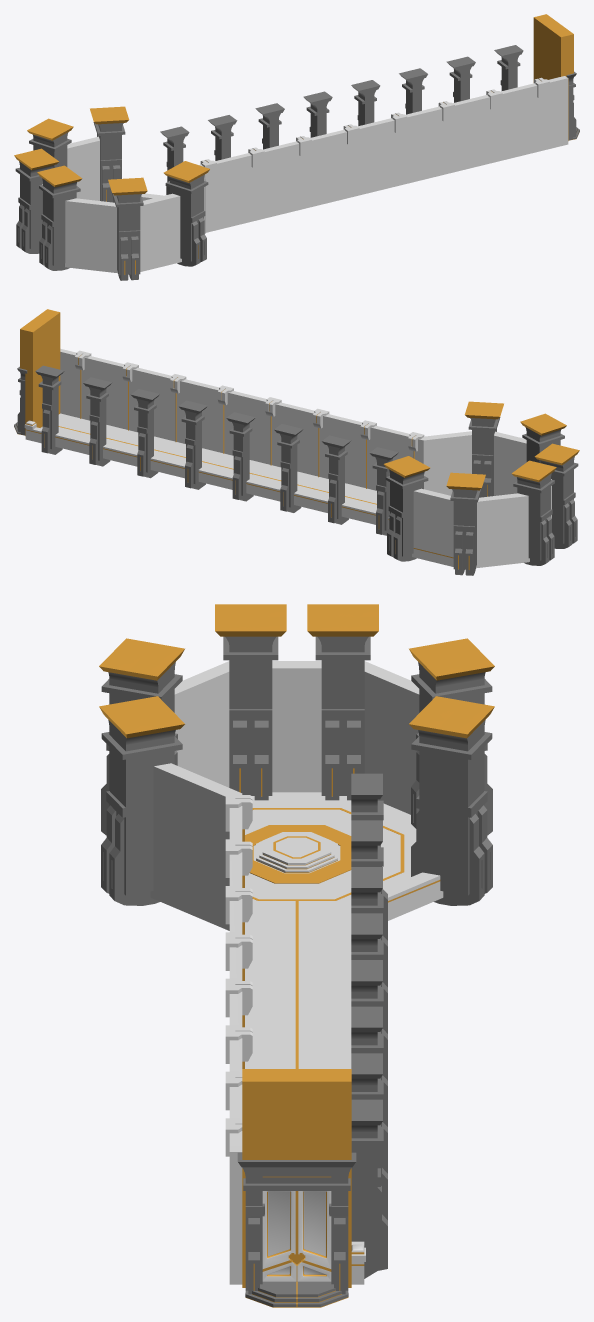
File: BOSSROOM.fbx
The picture shows the model from 3 angles, top to bottom: view 1: azimuth 30°, elevation 25°; view 2: azimuth 150°, elevation 25°; view 3: azimuth 270°, elevation 25°; orthographic projection. The views are drawn at different scales.
Visible parts, largest first — view 1: Cylinder.072, Cube.088, Cube.060, Cube.080, Cube.037, Cube.089; view 2: Cylinder.072, Cube.060, Cube.088, Cube.080, Cube.037, Cube.089; view 3: Cylinder.072, Cube.088, Cube.037, Cube.080, Cube.060, Cube.042, Cube.089, Cube.059.
Boxes of the visible parts, x1,y1,x2,y2 form: Cylinder.072: (42, 76, 568, 273); Cube.088: (27, 106, 209, 280); Cube.060: (160, 45, 523, 194); Cube.080: (14, 148, 82, 270); Cube.037: (533, 14, 576, 140); Cube.089: (200, 77, 549, 179); Cylinder.072: (24, 348, 551, 568); Cube.060: (35, 365, 398, 535); Cube.088: (384, 401, 566, 575); Cube.080: (511, 443, 579, 565); Cube.037: (17, 309, 60, 435); Cube.089: (75, 350, 424, 488); Cylinder.072: (150, 661, 443, 1284); Cube.088: (99, 638, 494, 905); Cube.037: (237, 1069, 356, 1294); Cube.080: (215, 604, 378, 800); Cube.060: (351, 773, 387, 1278); Cube.042: (262, 1191, 331, 1281); Cube.089: (225, 793, 252, 1156); Cube.059: (245, 1281, 348, 1307).
Size of the model in its own units: 65.41 by 13.35 by 20.71.
